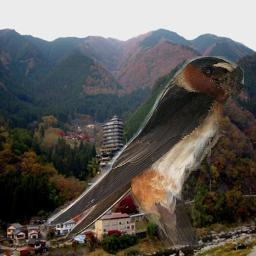Swallow: (40, 56, 244, 245)
